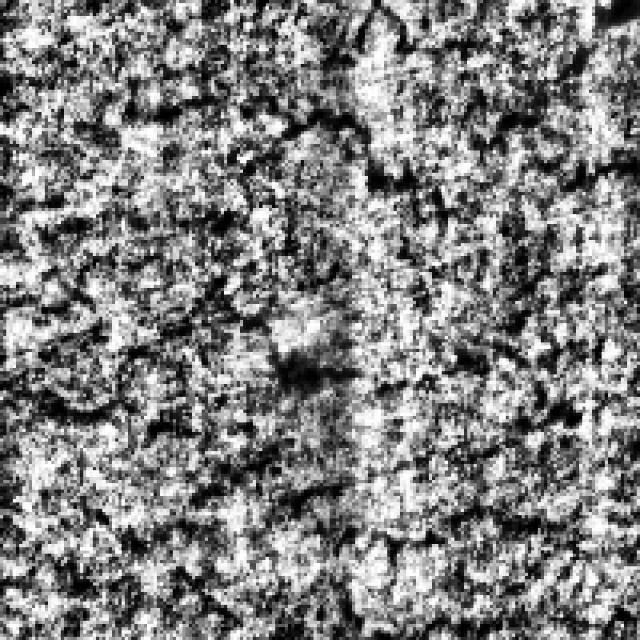Pitted_Surface: (6, 202, 378, 502), (106, 0, 634, 211), (77, 461, 573, 637)
